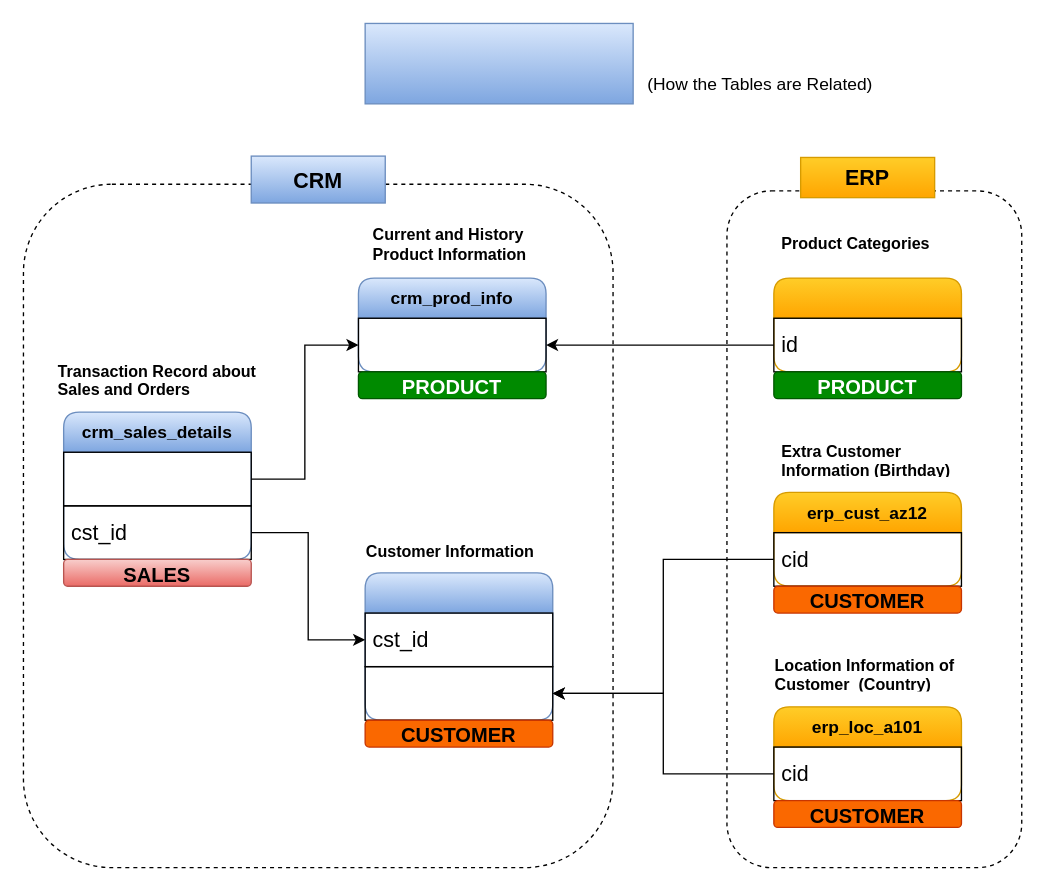
Image size: 1045x891. Some labels were removed from this diagram. The shapes that lost their labels are listed below. From the top down, each one's box as (x1, y1, x2, y2) in pixels, then its label:
(364, 22, 633, 104): Integration Model
(357, 317, 546, 372): cat_id
(773, 277, 961, 372): erp_px_cat_g1v2
(62, 451, 251, 506): prd_key
(364, 572, 553, 720): crm_cust_info
(364, 665, 553, 720): cst_key
